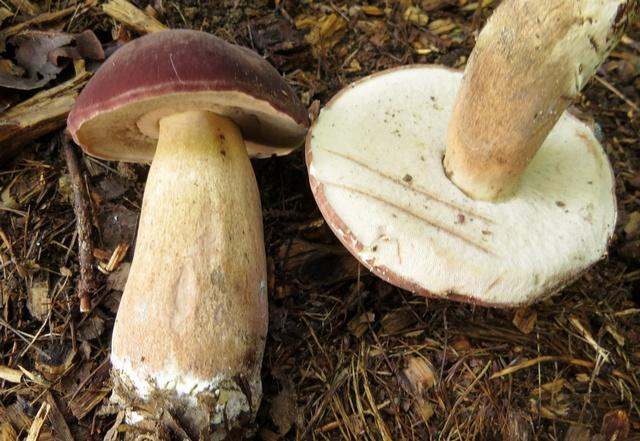Non-edible Mushroom: (65, 27, 311, 439), (306, 5, 640, 294)
